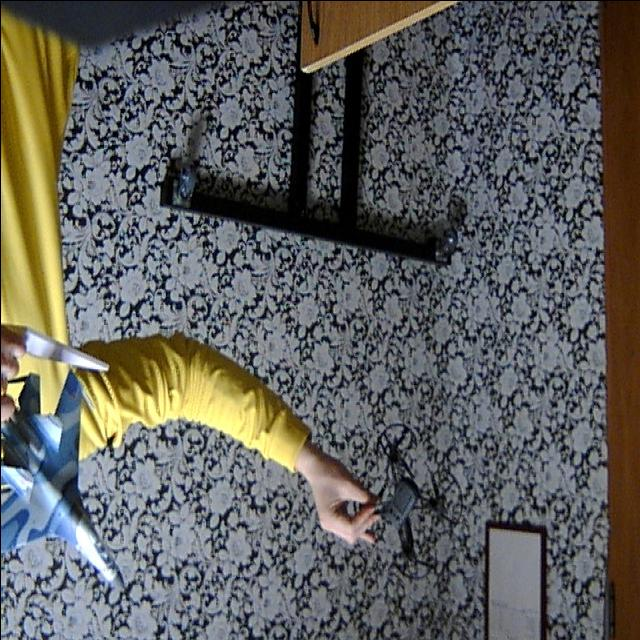drone: (332, 427, 470, 592)
